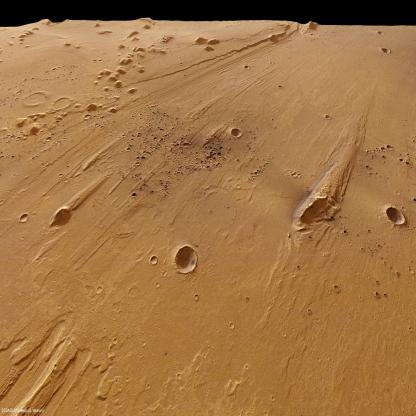craters: (165, 232, 206, 280), (44, 198, 75, 234), (383, 200, 410, 234), (22, 85, 50, 111), (223, 119, 250, 140), (142, 246, 162, 274), (52, 92, 74, 112), (19, 206, 32, 230), (191, 292, 202, 308)
